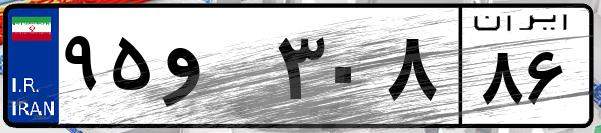0: (330, 28, 385, 110)
3: (270, 28, 330, 110)
5: (110, 28, 158, 98)
6: (525, 38, 570, 115)
8: (385, 28, 445, 110), (475, 38, 525, 113)
9: (57, 26, 110, 100)
و: (158, 20, 270, 120)
